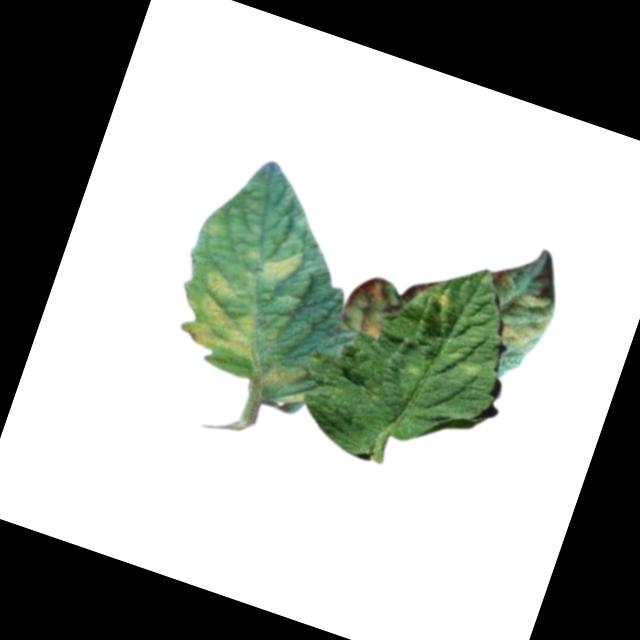Leaf_Mold: (174, 263, 283, 370), (337, 269, 407, 344), (491, 284, 559, 357), (256, 239, 310, 292), (259, 351, 317, 400), (416, 281, 465, 334)
